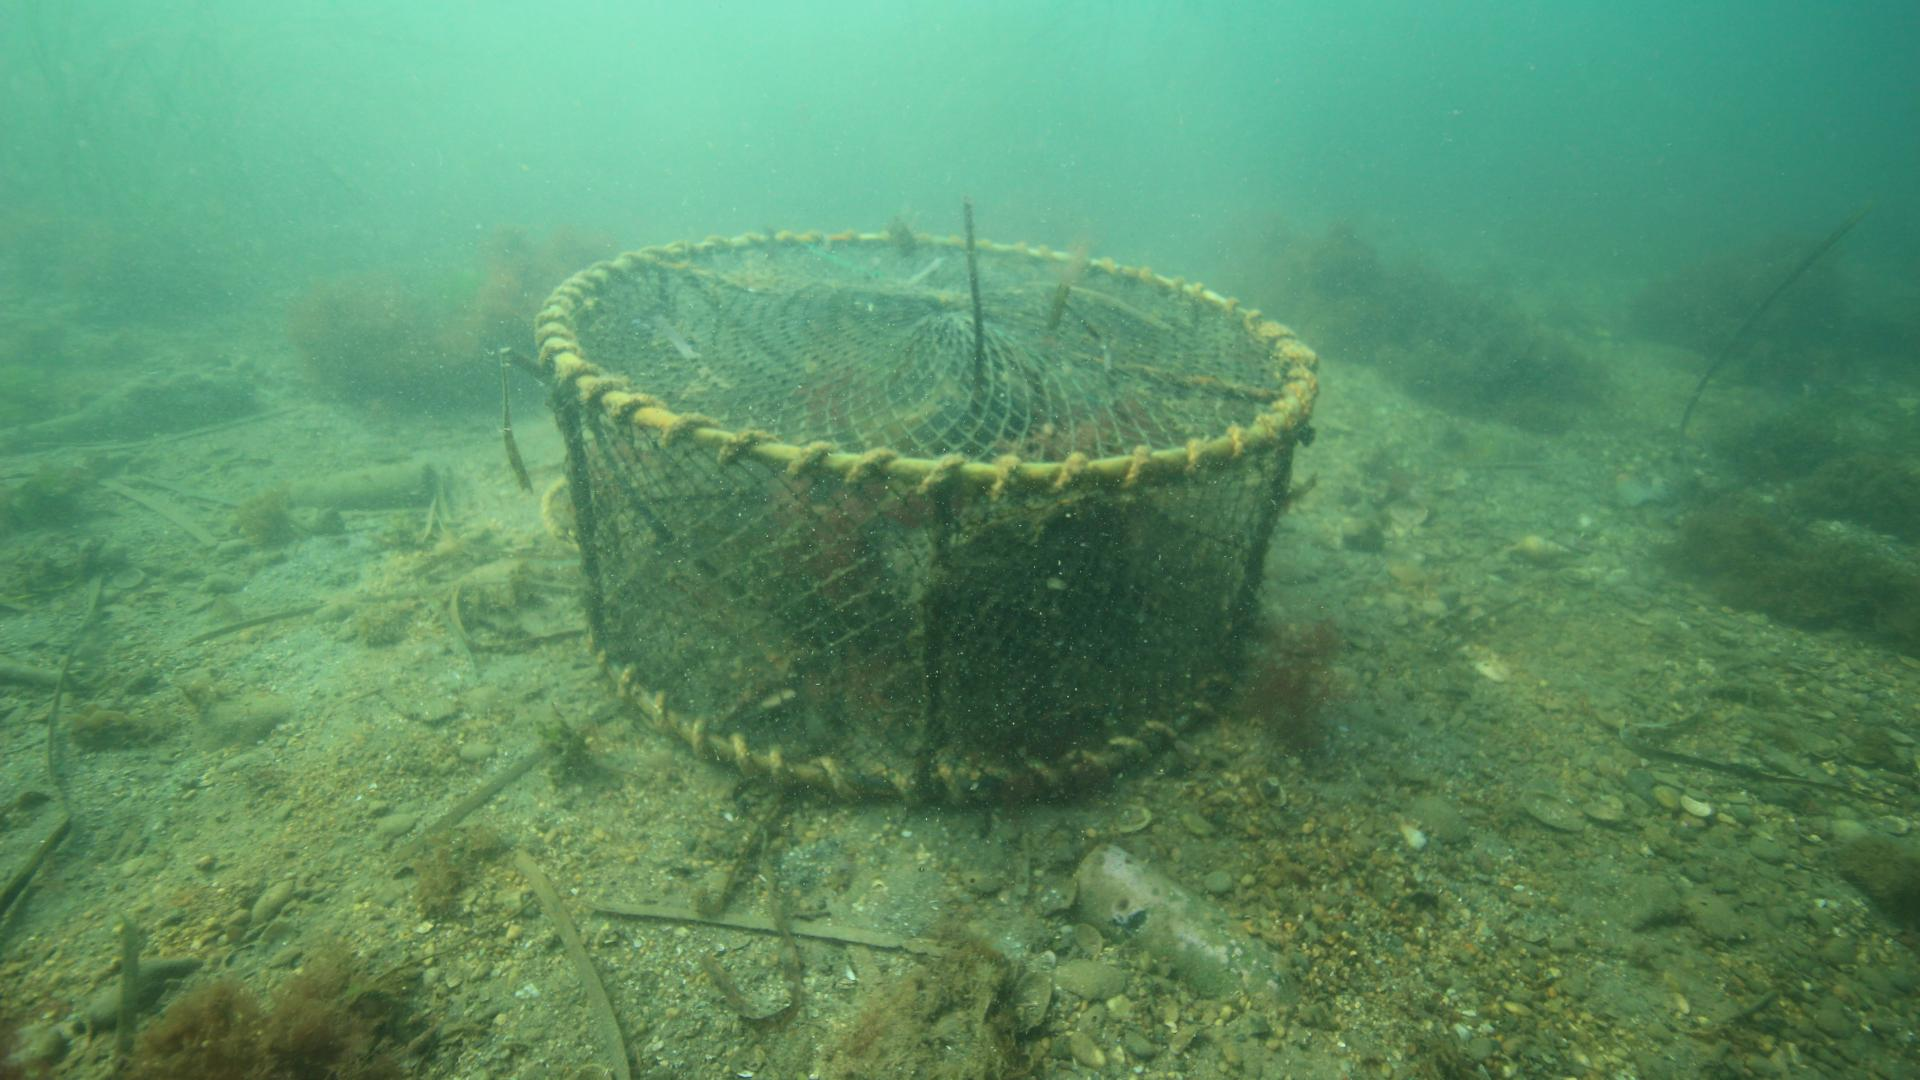circular fish trap: (534, 228, 1317, 803)
